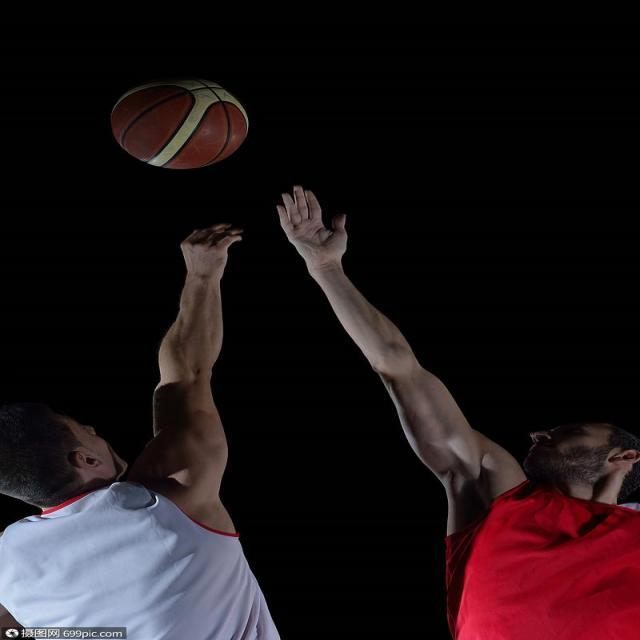rim: (115, 78, 249, 172)
